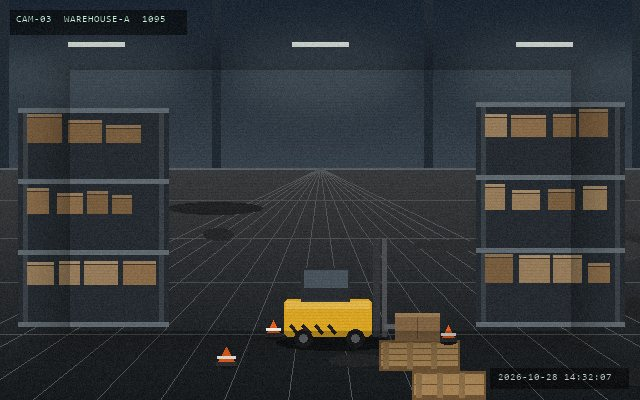cone: (215, 345, 237, 368), (264, 318, 282, 339), (439, 323, 457, 344)
forklift: (280, 237, 416, 350)
pallet: (377, 338, 461, 372), (410, 369, 487, 399)
shelf: (476, 102, 624, 322), (18, 108, 168, 322)
